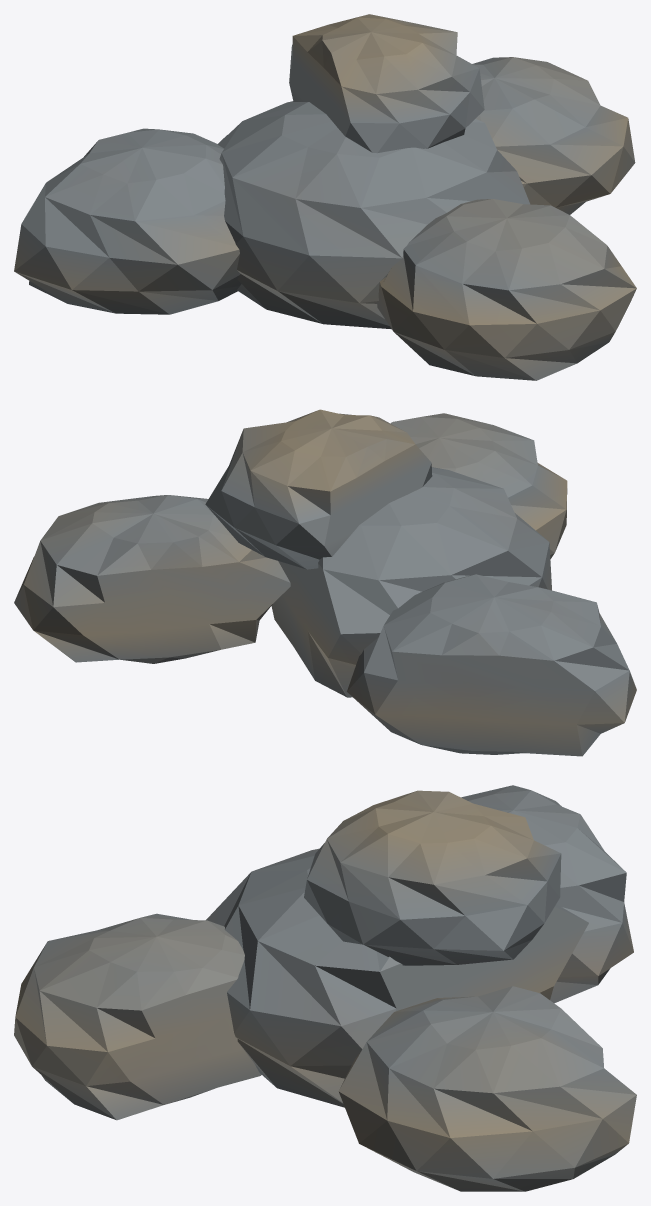
The model's file is drop_clay_a.glb.
3 views of the same model, one above another, from view 1: azimuth 30°, elevation 25°; view 2: azimuth 150°, elevation 25°; view 3: azimuth 270°, elevation 25° (orthographic). The views are drawn at different scales.
Parts seen in each view (by area): view 1: drop_clay_a; view 2: drop_clay_a; view 3: drop_clay_a.
Part boxes in pixels (x1,y1,x2,y2): drop_clay_a: (14,14,636,380); drop_clay_a: (14,409,636,756); drop_clay_a: (14,785,636,1191).
Size of the model in its own units: 0.3962 by 0.1431 by 0.3147.
